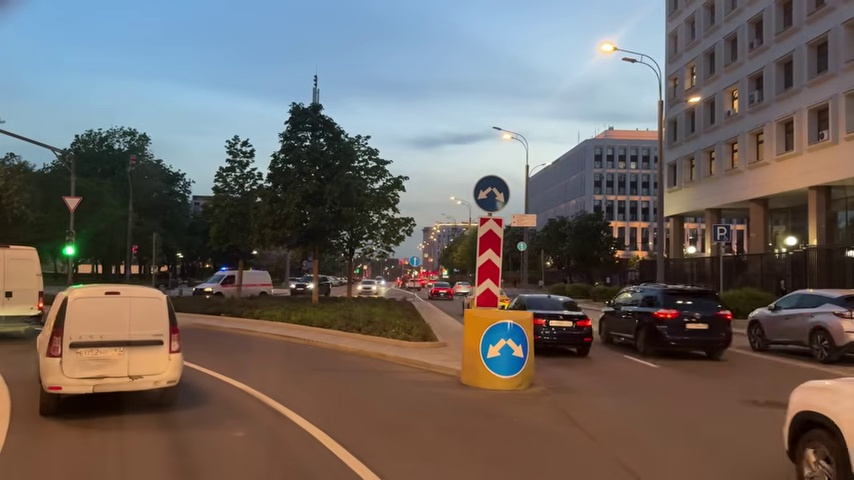acesa: (598, 39, 616, 55)
apagada: (491, 124, 511, 143)
